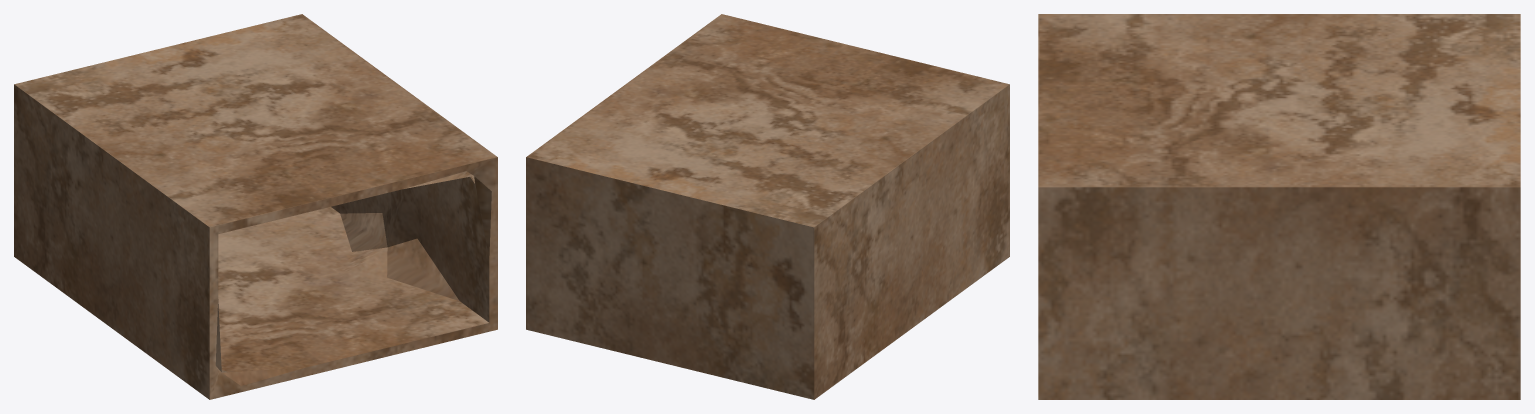
File: Drawer 1.fbx
The picture shows the model from 3 angles, left to right: view 1: azimuth 30°, elevation 25°; view 2: azimuth 150°, elevation 25°; view 3: azimuth 270°, elevation 25°; orthographic projection. The views are drawn at different scales.
Parts seen in each view (by area): view 1: Cube.001; view 2: Cube.001; view 3: Cube.001.
Part boxes in pixels (<box>): Cube.001: <box>14,14,497,399</box>; Cube.001: <box>526,14,1009,399</box>; Cube.001: <box>1038,14,1520,399</box>.
Size of the model in its own units: 126 by 72.21 by 148.
Materials: 1 (1 with a texture image).
